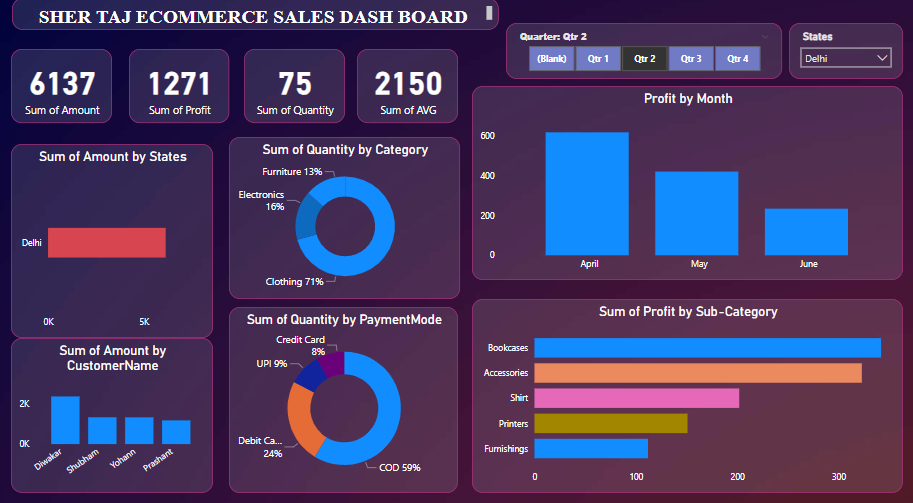

Layout of this report page (visuals, bound fields, positions):
{"tool":"powerbi","page":{"name":"Page 1","canvas":[1280,720],"ordinal":0},"visuals":[{"type":"textbox","box":[25.9,11.1,670.5,44.3],"z":0},{"type":"columnChart","title":"Profit by Month","fields":{"Y":["Details.Profit"],"Category":["Orders.Order Date.Variation.Date Hierarchy.Month"]},"box":[659.3,132.1,593.2,267],"z":1000},{"type":"clusteredBarChart","fields":{"Category":["Details.Sub-Category"],"Y":["Details.Profit"]},"box":[659.3,425.3,593.2,267],"z":2000},{"type":"donutChart","fields":{"Category":["Details.Category"],"Y":["Details.Quantity"]},"box":[324.8,202.3,317.9,223],"z":3000},{"type":"donutChart","fields":{"Y":["Details.Quantity"],"Category":["Details.PaymentMode"]},"box":[324.8,436.3,315.2,256],"z":4000},{"type":"card","fields":{"Values":["Details.Amount"]},"box":[24.8,81.2,139,101.8],"z":5000},{"type":"card","fields":{"Values":["Details.Profit"]},"box":[187.2,81.2,137.6,101.8],"z":6000},{"type":"card","fields":{"Values":["Details.Quantity"]},"box":[345.5,81.2,139,101.8],"z":7000},{"type":"card","fields":{"Values":["Details.AVG"]},"box":[501,81.2,139,101.8],"z":8000},{"type":"clusteredBarChart","fields":{"Y":["Details.Amount"],"Category":["Orders.States"]},"box":[24.8,212,278,267],"z":9000},{"type":"columnChart","fields":{"Category":["Orders.CustomerName"],"Y":["Details.Amount"]},"box":[25,479,278,213],"z":10000},{"type":"slicer","fields":{"Values":["Orders.States"]},"box":[1095.6,45.4,156.9,77.1],"z":11000},{"type":"slicer","fields":{"Values":["Orders.Order Date.Variation.Date Hierarchy.Quarter"]},"box":[706.1,45.4,379.9,77.1],"z":12000}]}

Visuals, with their boxes in screenshot pixels (x1, y1, x2, y2), scaled from the page's 1280x720 canvas onto the 913x503 screenshot:
textbox: locate(18, 8, 497, 39)
"Profit by Month" columnChart: locate(470, 92, 893, 279)
clusteredBarChart - Details.Sub-Category x Details.Profit: locate(470, 297, 893, 484)
donutChart - Details.Category x Details.Quantity: locate(232, 141, 458, 297)
donutChart - Details.Quantity x Details.PaymentMode: locate(232, 305, 456, 484)
card - Details.Amount: locate(18, 57, 117, 128)
card - Details.Profit: locate(134, 57, 232, 128)
card - Details.Quantity: locate(246, 57, 346, 128)
card - Details.AVG: locate(357, 57, 456, 128)
clusteredBarChart - Details.Amount x Orders.States: locate(18, 148, 216, 335)
columnChart - Orders.CustomerName x Details.Amount: locate(18, 335, 216, 483)
slicer - Orders.States: locate(781, 32, 893, 86)
slicer - Orders.Order Date.Variation.Date Hierarchy.Quarter: locate(504, 32, 775, 86)
